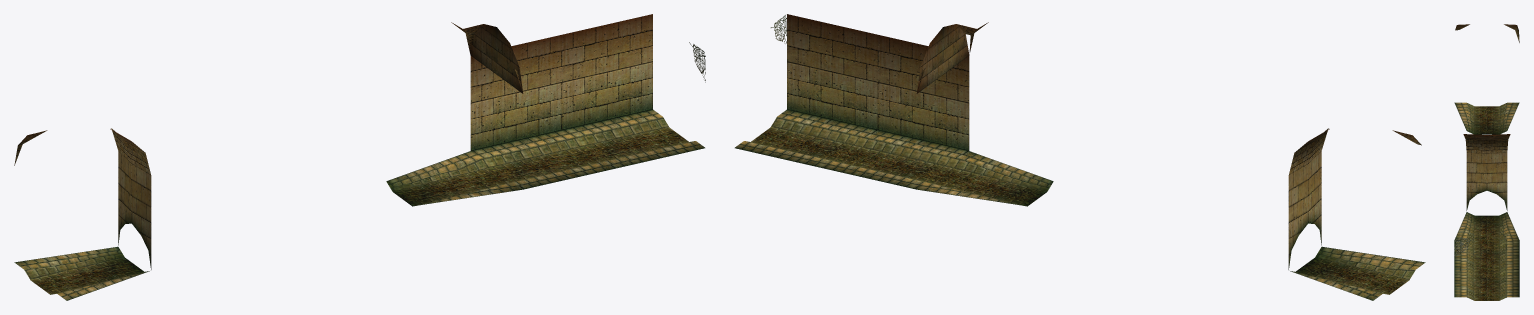
File: Mission12_Sewer02_D.glb
3 renders of one model, left to right at view 1: azimuth 30°, elevation 25°; view 2: azimuth 150°, elevation 25°; view 3: azimuth 270°, elevation 25°, orthographic. The views are drawn at different scales.
Visible parts, largest first — view 1: MISSION12_SEWER02_D; view 2: MISSION12_SEWER02_D; view 3: MISSION12_SEWER02_D.
Part boxes in pixels (box(x1,y1,x2,y2)): MISSION12_SEWER02_D: box(14, 14, 705, 300); MISSION12_SEWER02_D: box(735, 14, 1425, 300); MISSION12_SEWER02_D: box(1454, 24, 1519, 300).
Bounding box in the file's own units: 28 × 6.38 × 4.
5 materials, 5 textured.
